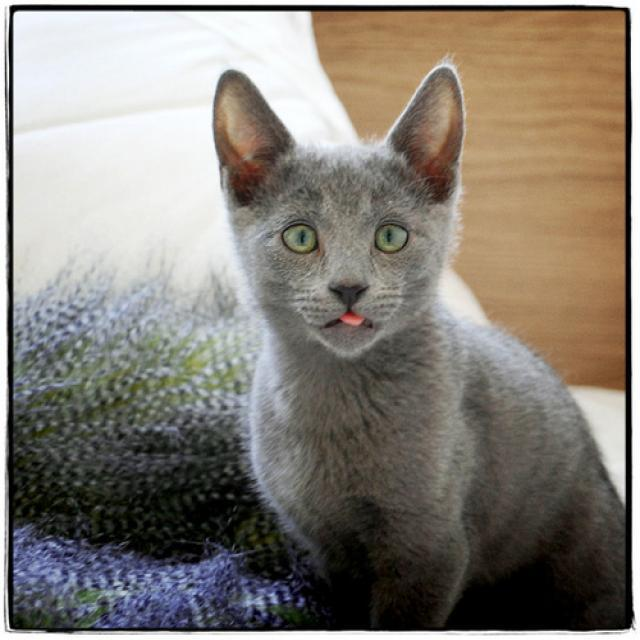Russian_Blue: (211, 61, 462, 353)
